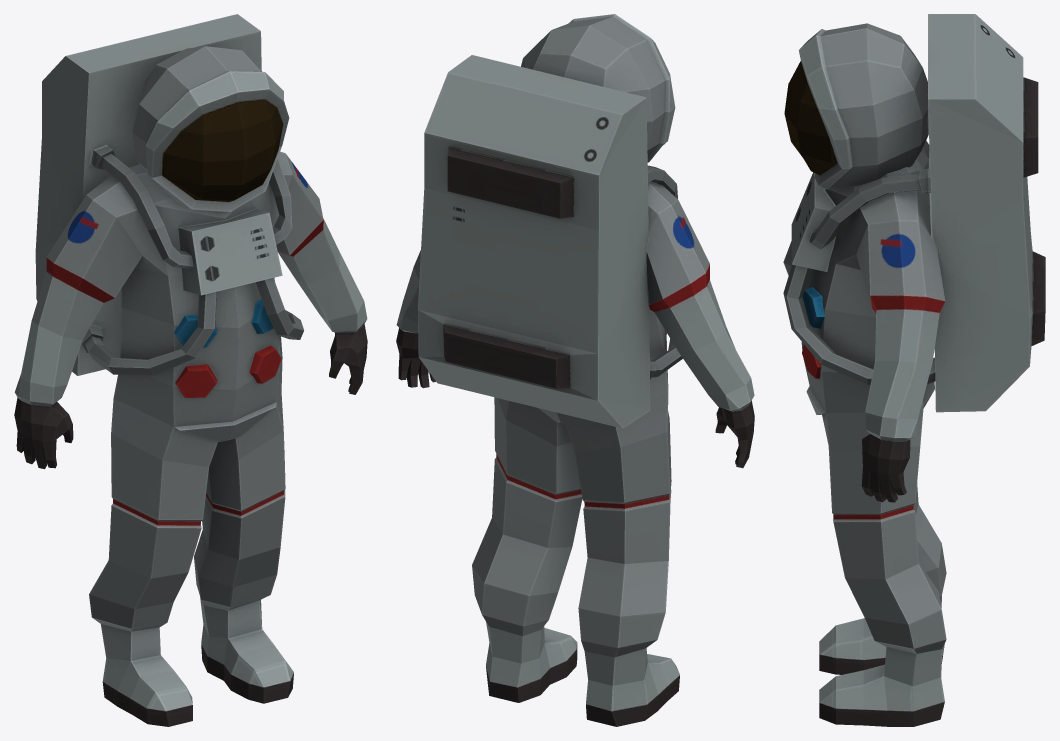
The model's file is Astronaut.glb.
3 views of the same model, side by side, from view 1: azimuth 30°, elevation 25°; view 2: azimuth 150°, elevation 25°; view 3: azimuth 270°, elevation 25° (orthographic).
Parts seen in each view (by area): view 1: node-0; view 2: node-0; view 3: node-0.
Part boxes in pixels (<box>): node-0: <box>14,14,367,726</box>; node-0: <box>396,14,754,726</box>; node-0: <box>783,14,1045,726</box>.
Bounding box in the file's own units: 1.12 × 2.01 × 0.7236.
1 material, 1 textured.
